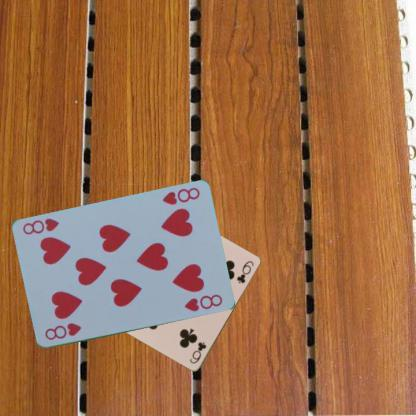6c: (187, 340, 208, 365)
8h: (160, 185, 201, 207), (42, 320, 83, 341)
